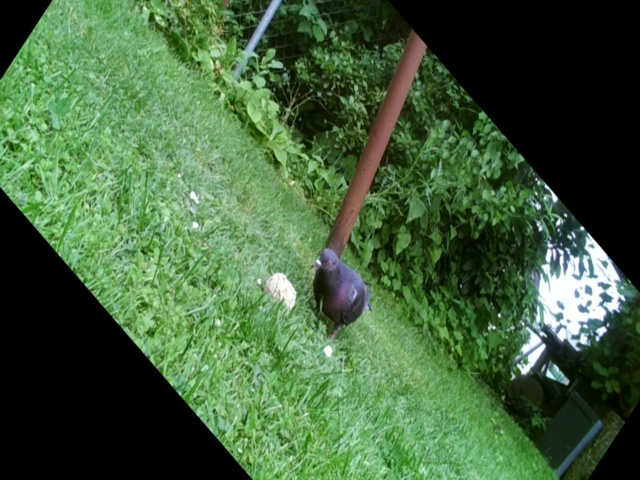Pigeon: (303, 244, 391, 358)
